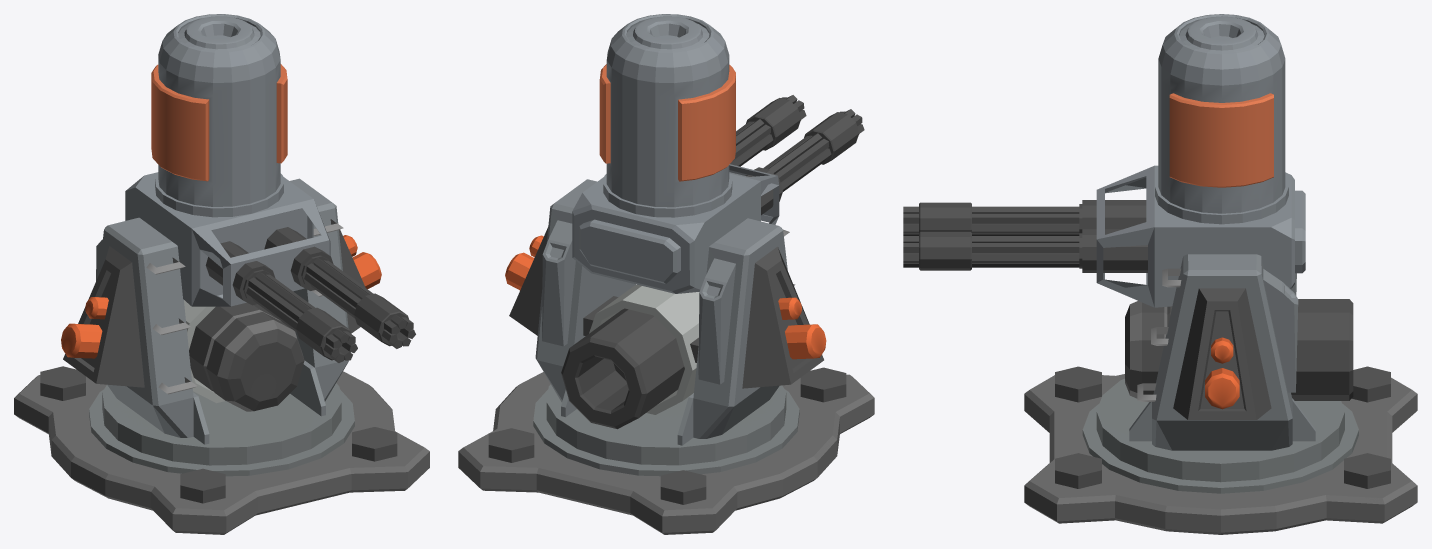
The model's file is model_polyfleet_battleship_phalanx04.fbx.
3 renders of one model, left to right at view 1: azimuth 30°, elevation 25°; view 2: azimuth 150°, elevation 25°; view 3: azimuth 270°, elevation 25°, orthographic. The views are drawn at different scales.
Visible parts, largest first — view 1: weapon_rotate, weapon_barrel_tilt, model_polyfleet_battleship_phalanx04, weapon_barrels1, weapon_barrels2; view 2: weapon_rotate, weapon_barrel_tilt, model_polyfleet_battleship_phalanx04, weapon_barrels1, weapon_barrels2; view 3: weapon_rotate, weapon_barrel_tilt, model_polyfleet_battleship_phalanx04, weapon_barrels2, weapon_barrels1.
Boxes of the visible parts, x1,y1,x2,y2 form: weapon_rotate: (61, 178, 381, 476); weapon_barrel_tilt: (125, 14, 330, 306); model_polyfleet_battleship_phalanx04: (14, 366, 429, 534); weapon_barrels1: (205, 241, 357, 362); weapon_barrels2: (264, 227, 415, 348); weapon_rotate: (505, 179, 826, 476); weapon_barrel_tilt: (572, 14, 779, 293); model_polyfleet_battleship_phalanx04: (458, 367, 874, 534); weapon_barrels1: (745, 109, 864, 215); weapon_barrels2: (730, 95, 806, 166); weapon_rotate: (1082, 254, 1358, 493); weapon_barrel_tilt: (1096, 14, 1305, 307); model_polyfleet_battleship_phalanx04: (1024, 366, 1417, 534); weapon_barrels2: (903, 229, 1147, 272); weapon_barrels1: (903, 200, 1146, 235).
Bounding box in the file's own units: 384 × 489 × 530.
